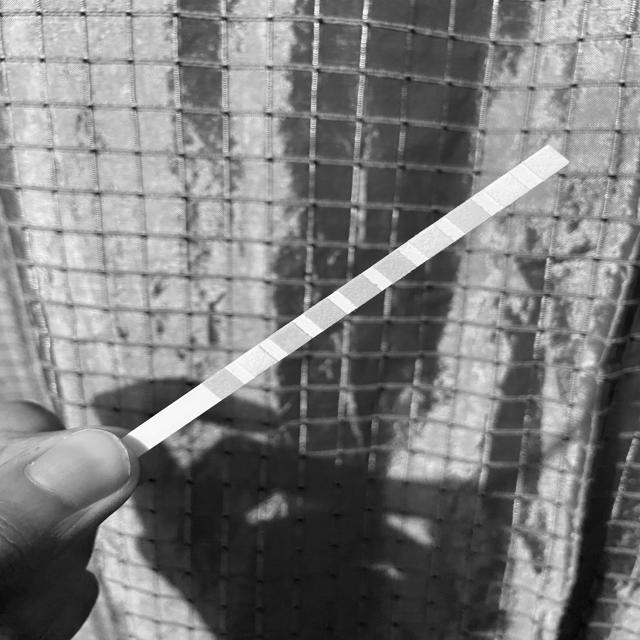Bilirubin: (246, 353, 268, 369)
Blood: (349, 282, 370, 299)
Glucose: (213, 377, 233, 393)
Ketone: (279, 330, 301, 346)
Leukocytes: (533, 153, 558, 172)
Nitrite: (495, 180, 517, 200)
Protein: (420, 232, 442, 250)
SpGravity: (313, 306, 336, 322)
Urobilinogen: (457, 207, 480, 224)
background: (0, 0, 640, 640)
pH: (384, 258, 405, 274)
strip: (121, 145, 569, 458)
